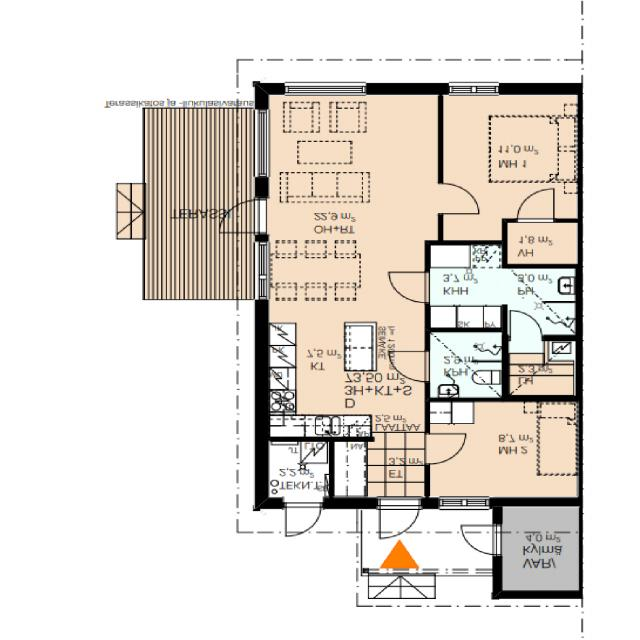door: (216, 200, 269, 233), (381, 497, 418, 541), (287, 498, 321, 538), (425, 434, 467, 464), (458, 526, 502, 554), (389, 272, 430, 302), (438, 184, 479, 214), (389, 363, 430, 392), (511, 309, 543, 341)
